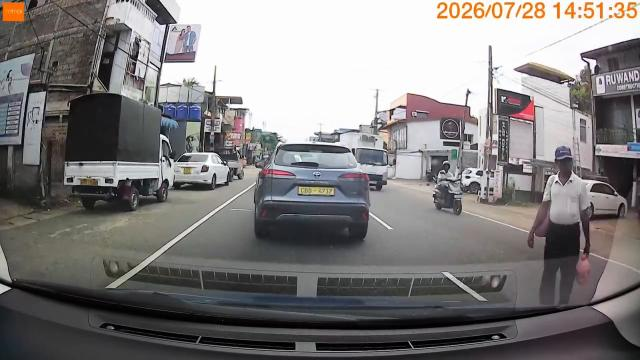number plate: (292, 182, 339, 199)
